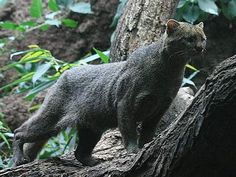Jaguarundi: (9, 16, 210, 160)
